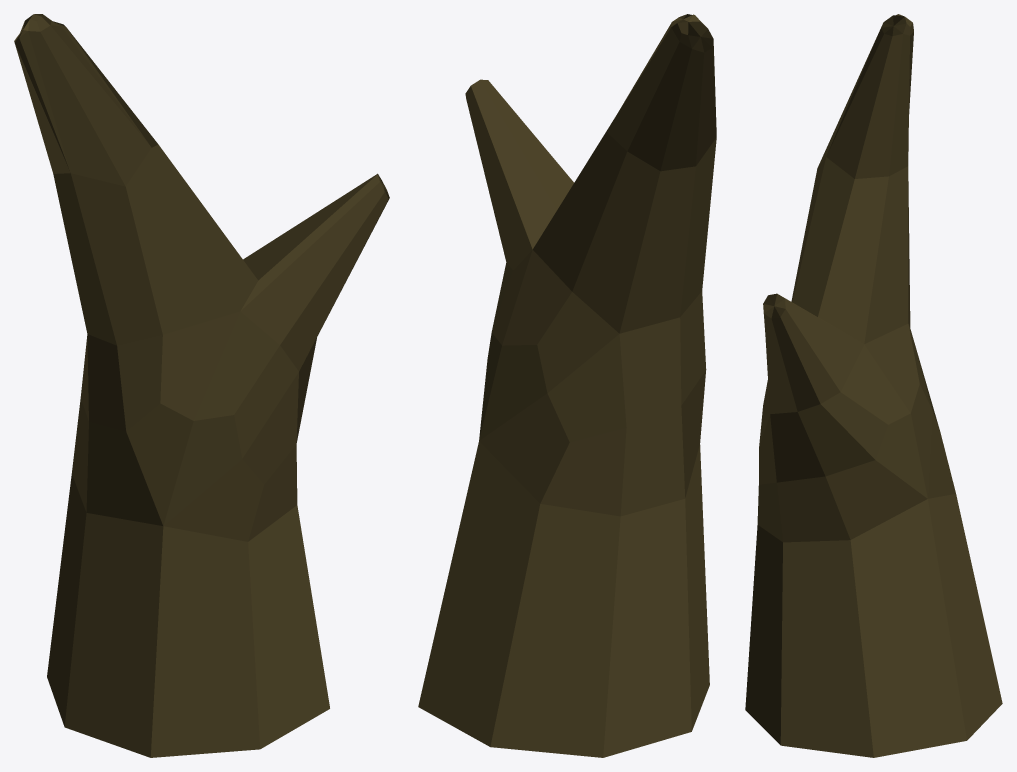
Rendered from Sprout.fbx.
3 views of the same model, side by side, from view 1: azimuth 30°, elevation 25°; view 2: azimuth 150°, elevation 25°; view 3: azimuth 270°, elevation 25° (orthographic). The views are drawn at different scales.
Parts seen in each view (by area): view 1: Tree; view 2: Tree; view 3: Tree.
Part boxes in pixels (left/top/right/bottom): Tree: left=14, top=14, right=389, bottom=757; Tree: left=418, top=14, right=716, bottom=757; Tree: left=745, top=14, right=1002, bottom=757.
Bounding box in the file's own units: 28.96 × 64.06 × 23.49.
